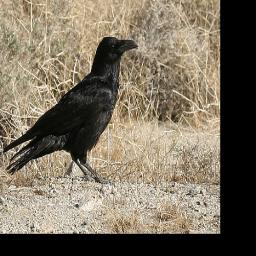Crow: (2, 35, 139, 184)
